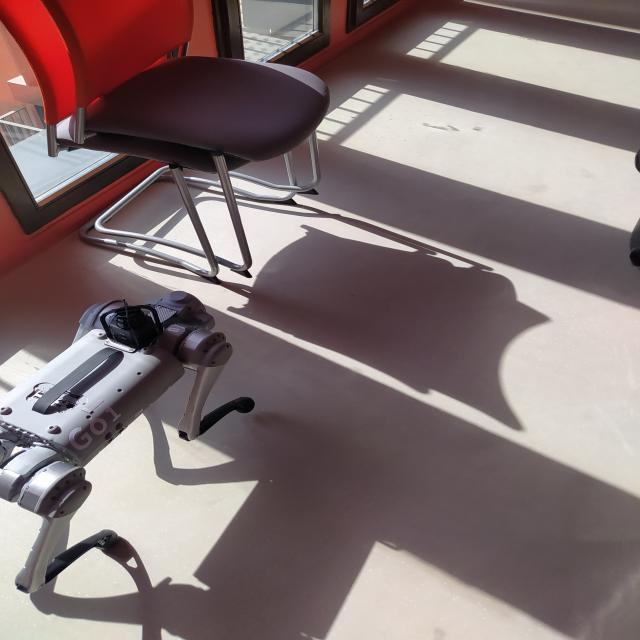unitree-go1-robot: (1, 287, 270, 640)
